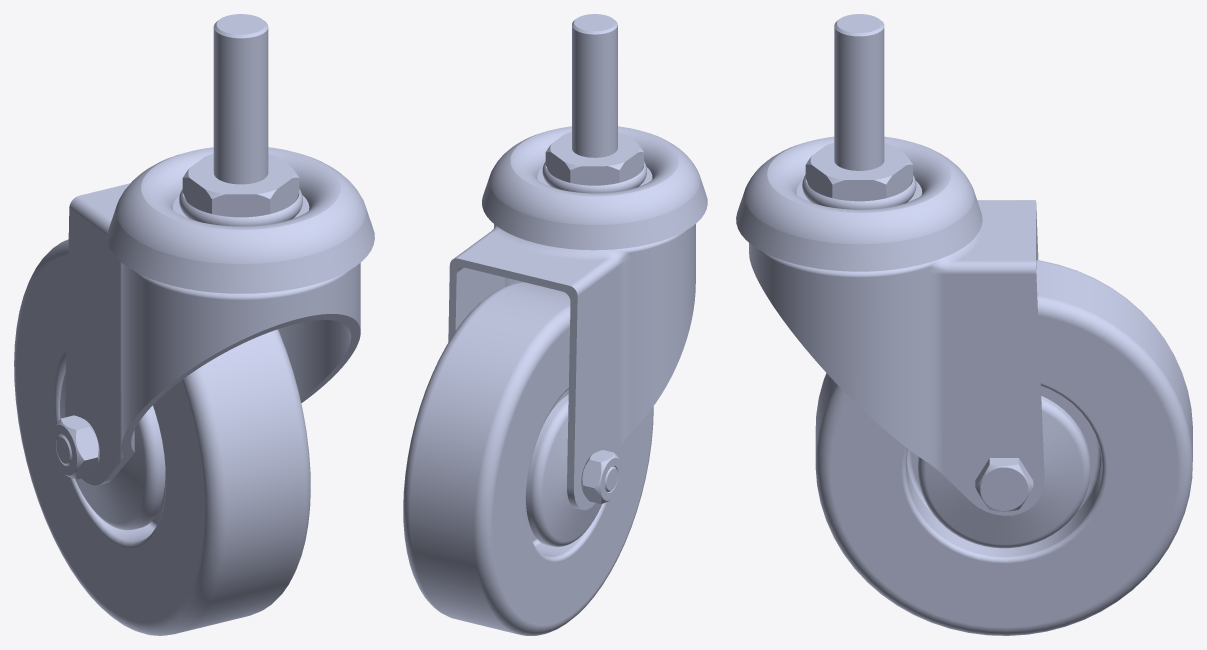
The model's file is front_left_wheel.dae.
3 views of the same model, side by side, from view 1: azimuth 30°, elevation 25°; view 2: azimuth 150°, elevation 25°; view 3: azimuth 270°, elevation 25° (orthographic). The views are drawn at different scales.
Visible parts, largest first — view 1: Body1 (×5), __________00.STEP.STEP; view 2: Body1 (×5), __________00.STEP.STEP; view 3: Body1 (×5), __________00.STEP.STEP.
Boxes of the visible parts, x1,y1,x2,y2 form: Body1 (×5): (14, 14, 374, 635); __________00.STEP.STEP: (65, 183, 360, 485); Body1 (×5): (403, 14, 707, 635); __________00.STEP.STEP: (448, 224, 695, 510); Body1 (×5): (736, 14, 1192, 635); __________00.STEP.STEP: (749, 200, 1044, 515).
Size of the model in its own units: 0.049 by 0.0908 by 0.1303.
